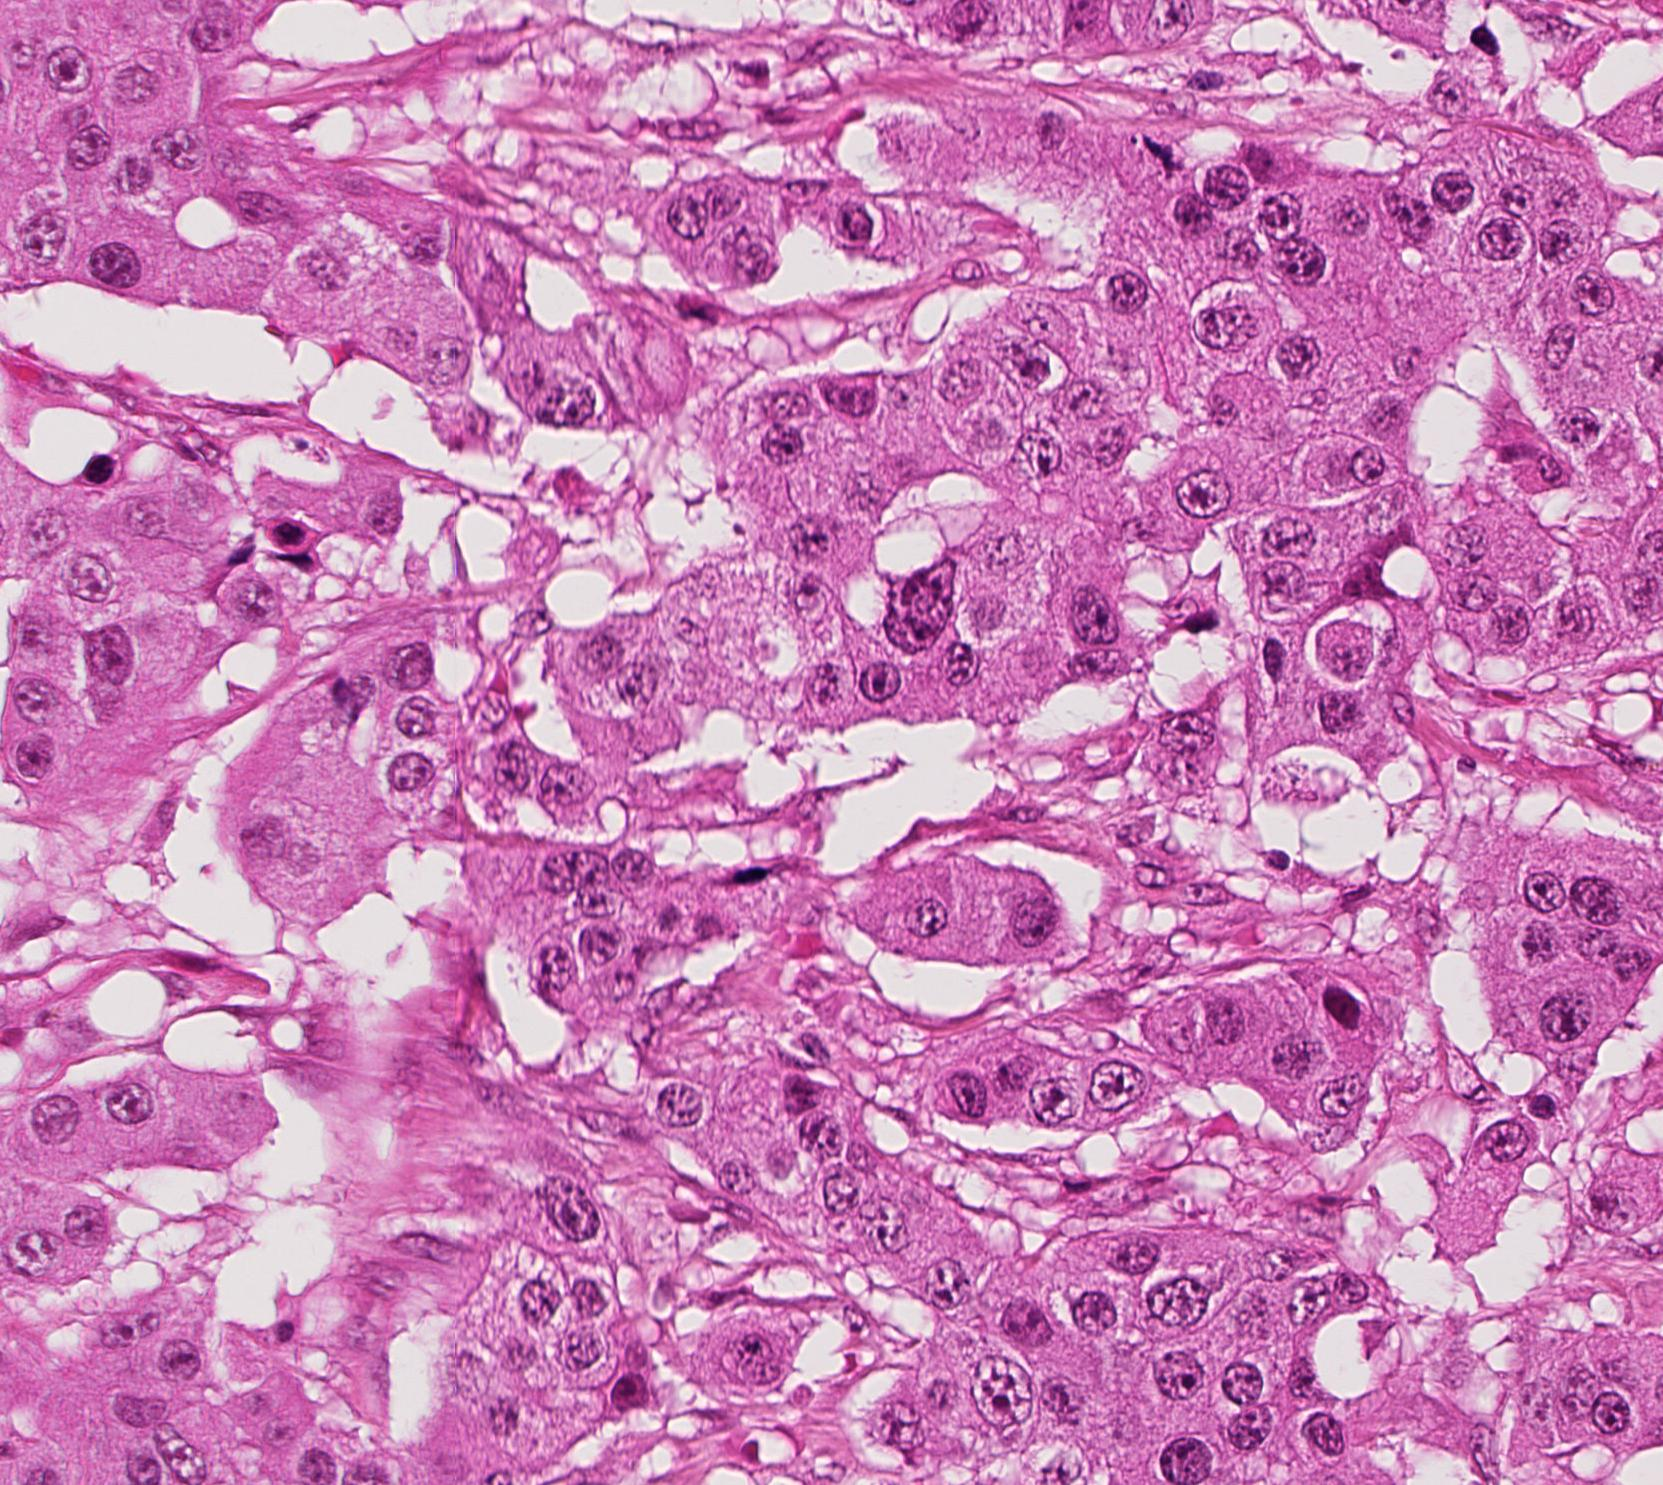mitosis: (1133, 129, 1193, 189)
